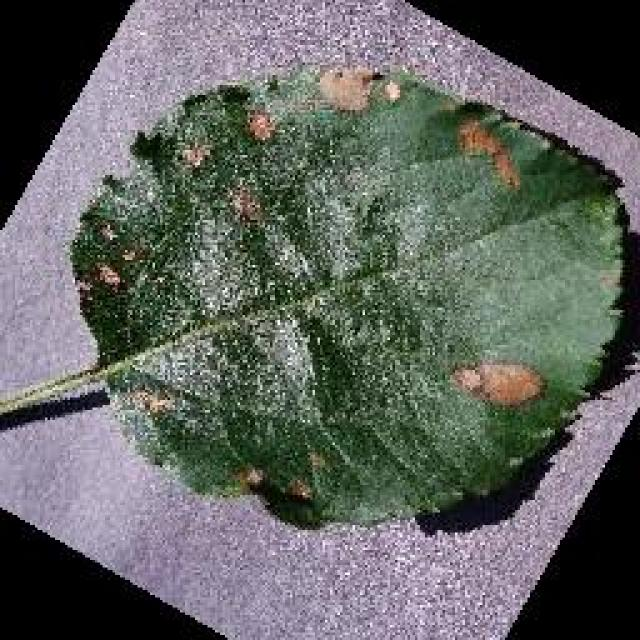black_rot: (438, 352, 553, 414), (456, 112, 534, 198), (310, 61, 388, 119), (244, 106, 289, 147), (90, 252, 132, 292)
